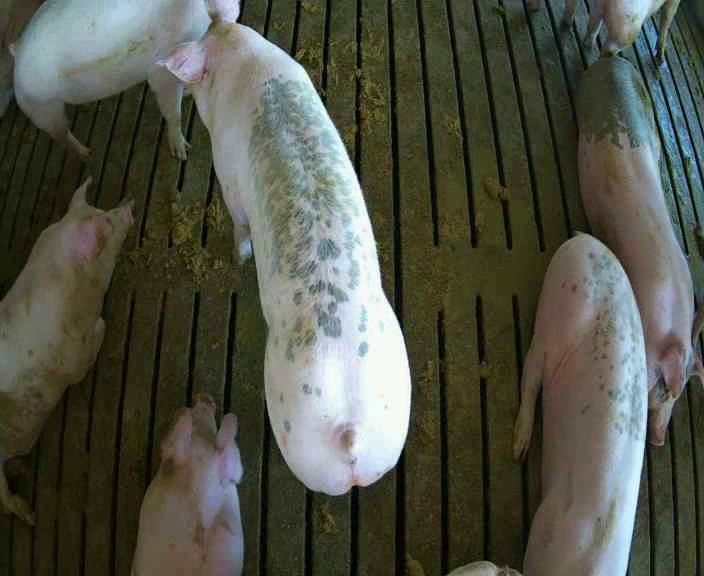pig: (162, 0, 410, 494), (577, 56, 703, 444), (0, 181, 132, 523), (514, 234, 646, 574), (14, 2, 210, 158), (132, 396, 243, 574)
